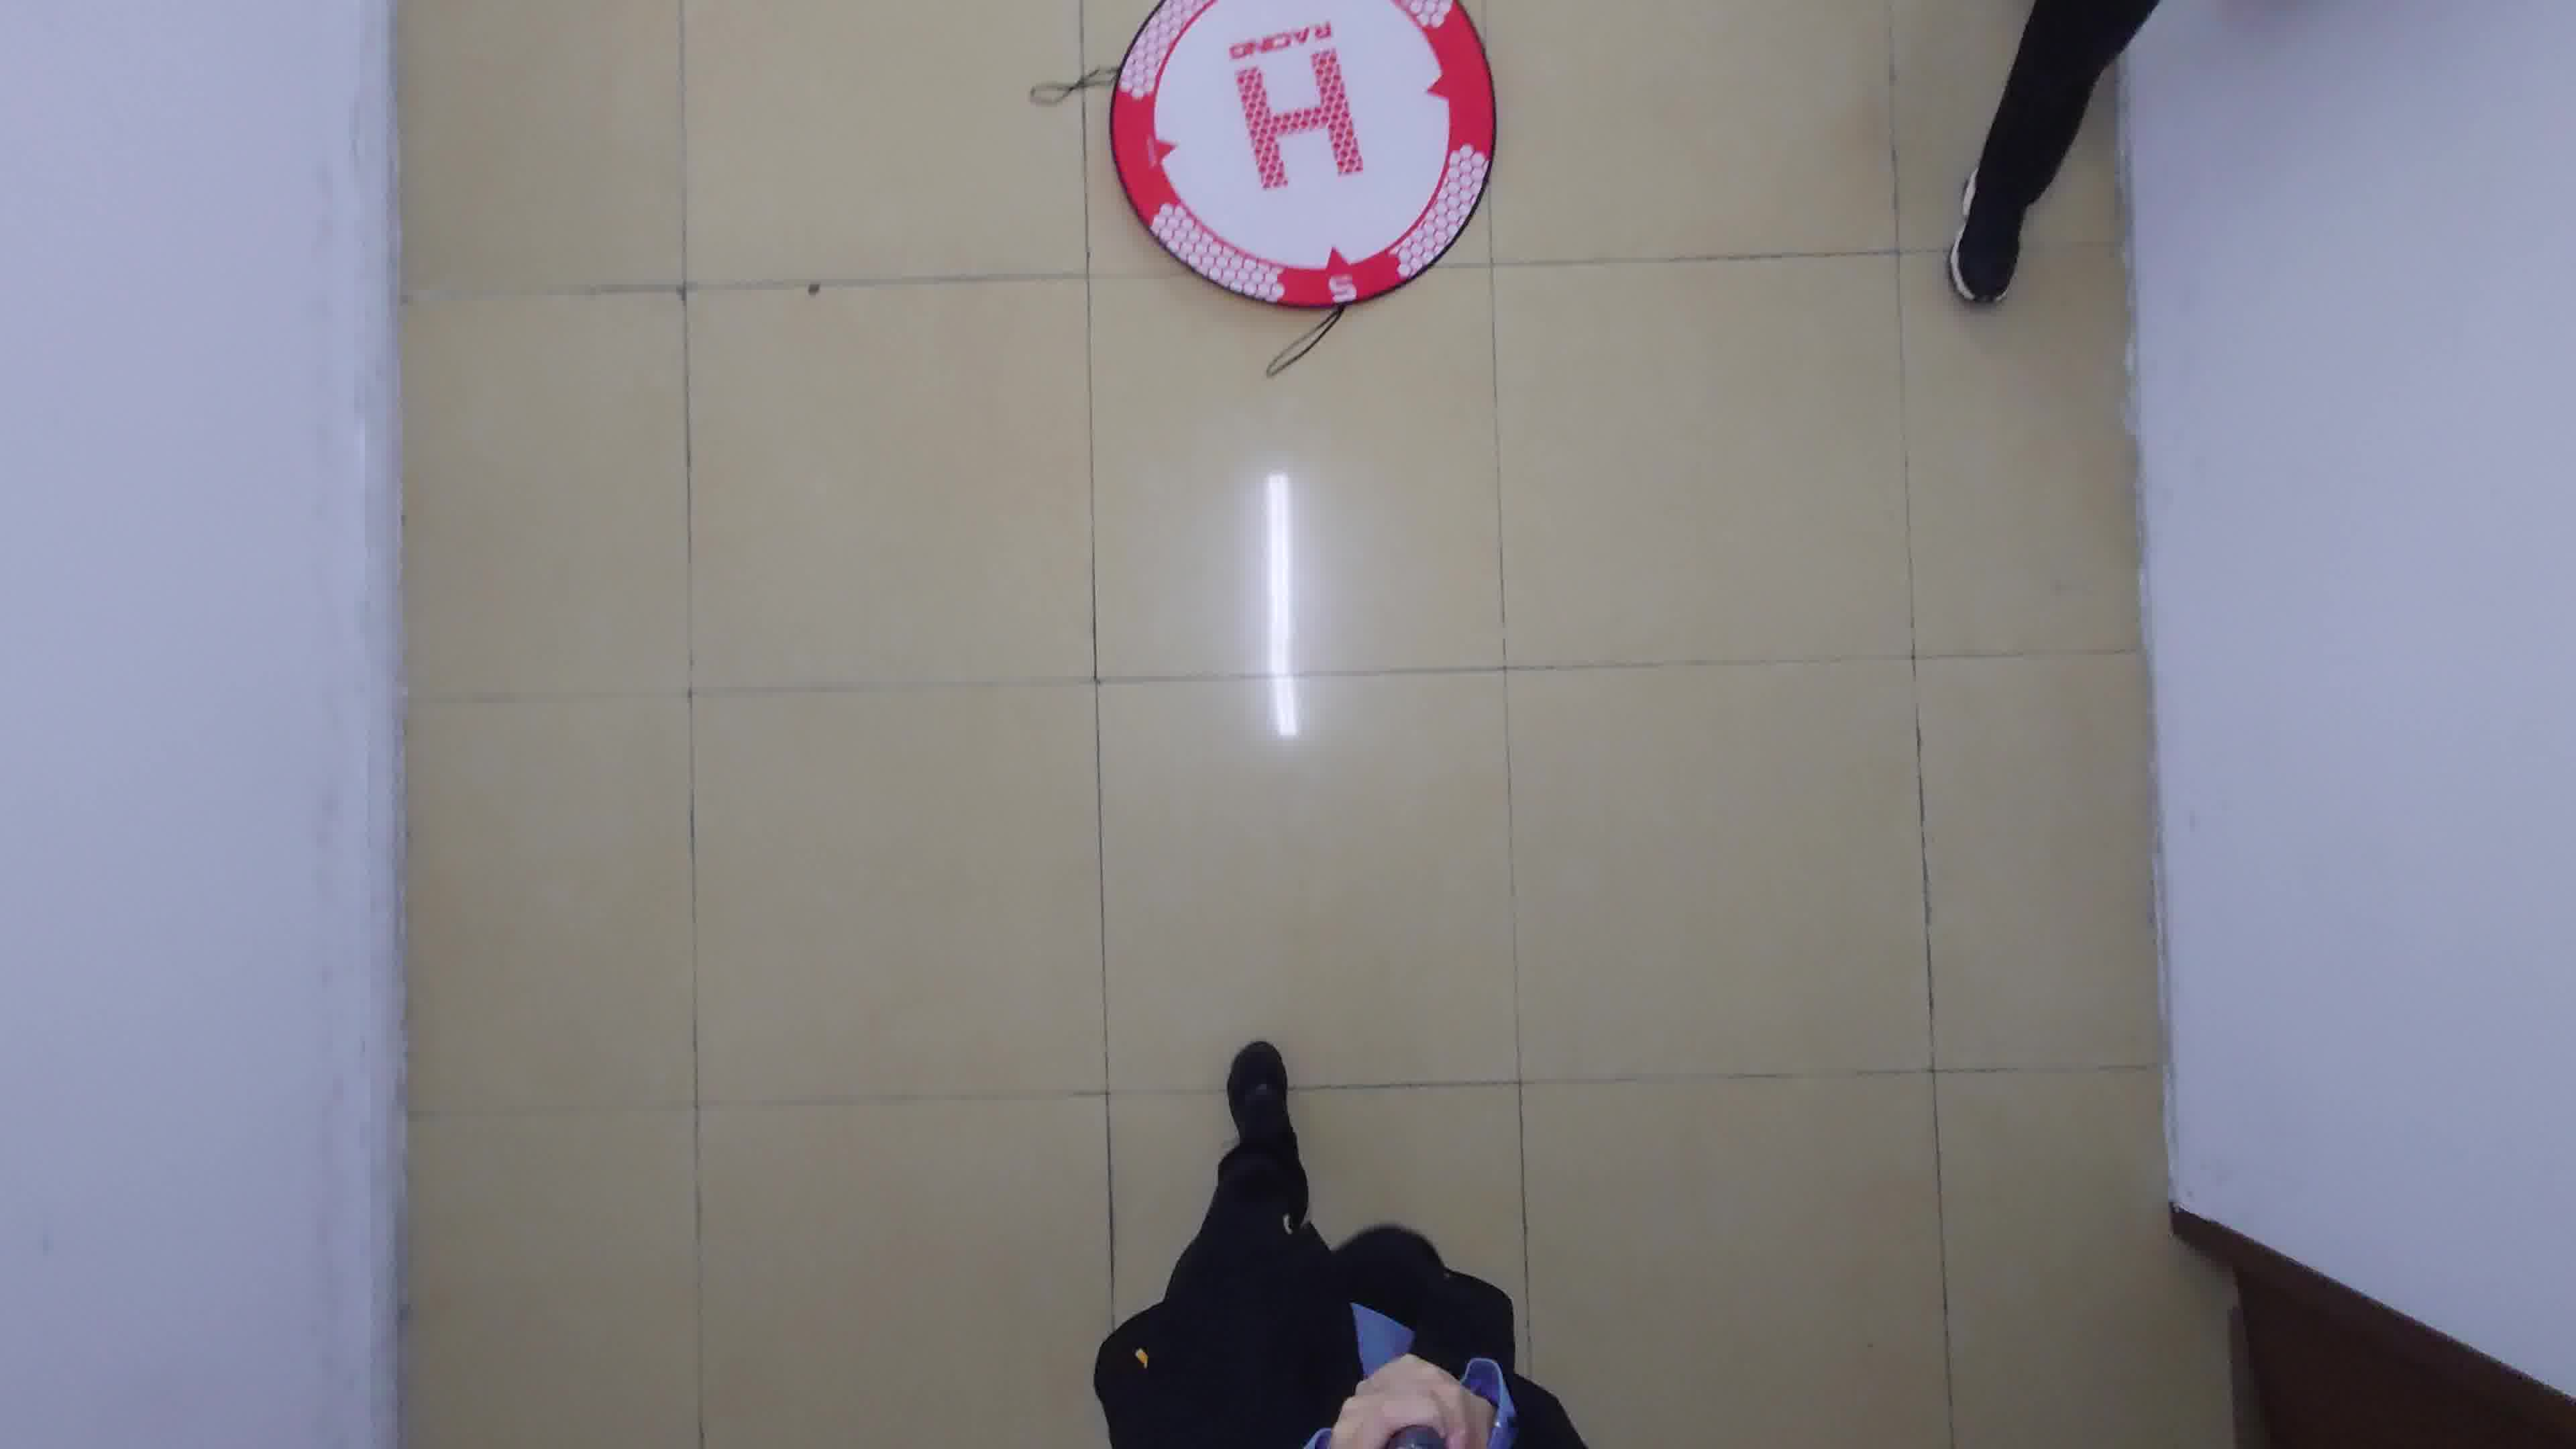H: (1235, 48, 1364, 191)
